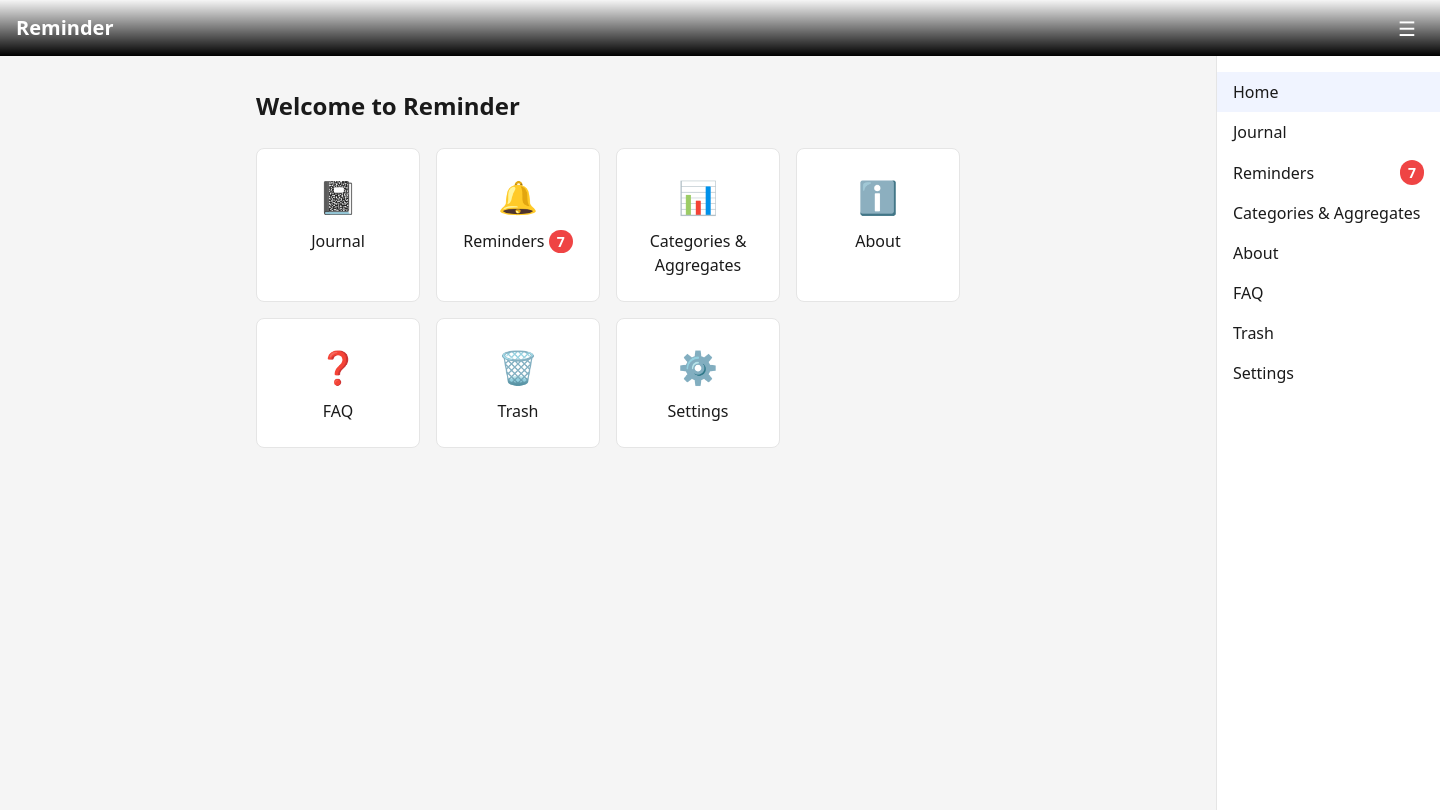
app shell navigation › navigates to Journal with two-column layout
Click the link "📓 Journal" at point(338, 225), box [256,148,420,302]
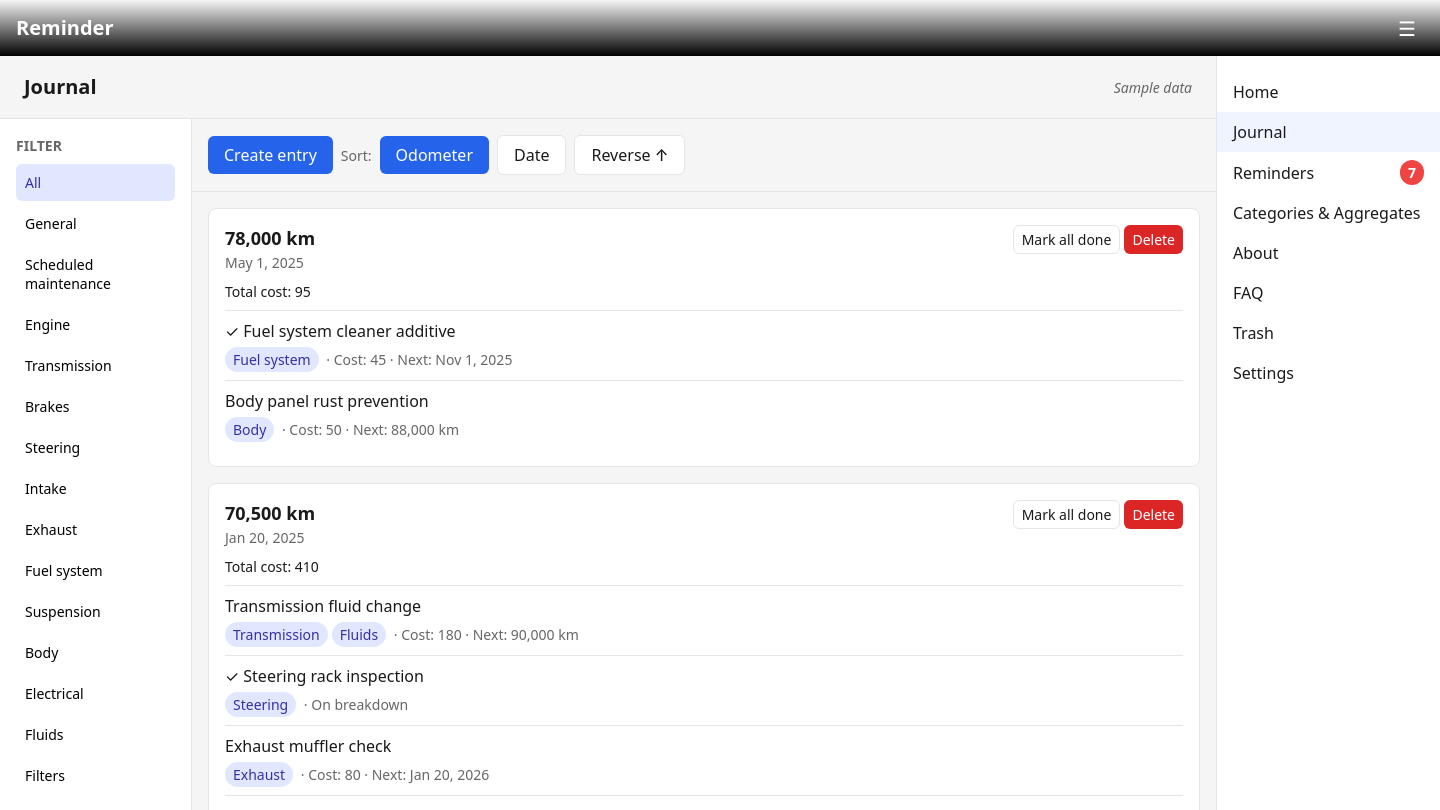
Expected: the heading "Journal" is shown, [24,72,96,102]
Expected: the element named "category filters" is shown, [0,119,192,809]
